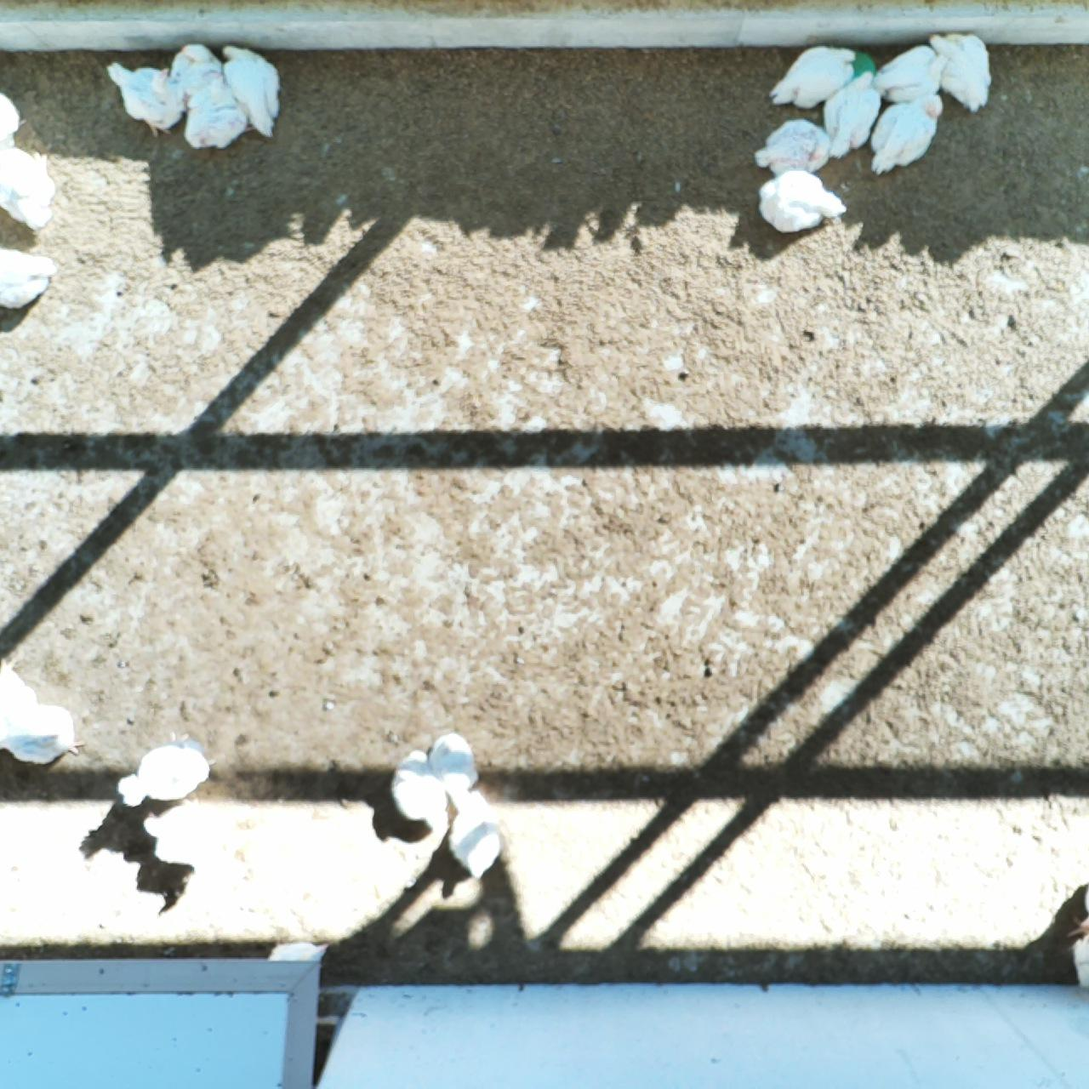chicken: (118, 729, 215, 810), (869, 90, 943, 175), (221, 43, 285, 137), (105, 61, 175, 136), (770, 43, 853, 106), (760, 174, 847, 234), (824, 70, 882, 159), (0, 704, 84, 764), (931, 29, 992, 111), (183, 84, 254, 154), (392, 750, 449, 835), (451, 790, 503, 881), (0, 151, 55, 232), (873, 46, 949, 101), (758, 121, 830, 171), (166, 40, 225, 101), (0, 249, 56, 312), (0, 652, 44, 716), (431, 738, 480, 793), (269, 939, 334, 962), (0, 92, 21, 151)
